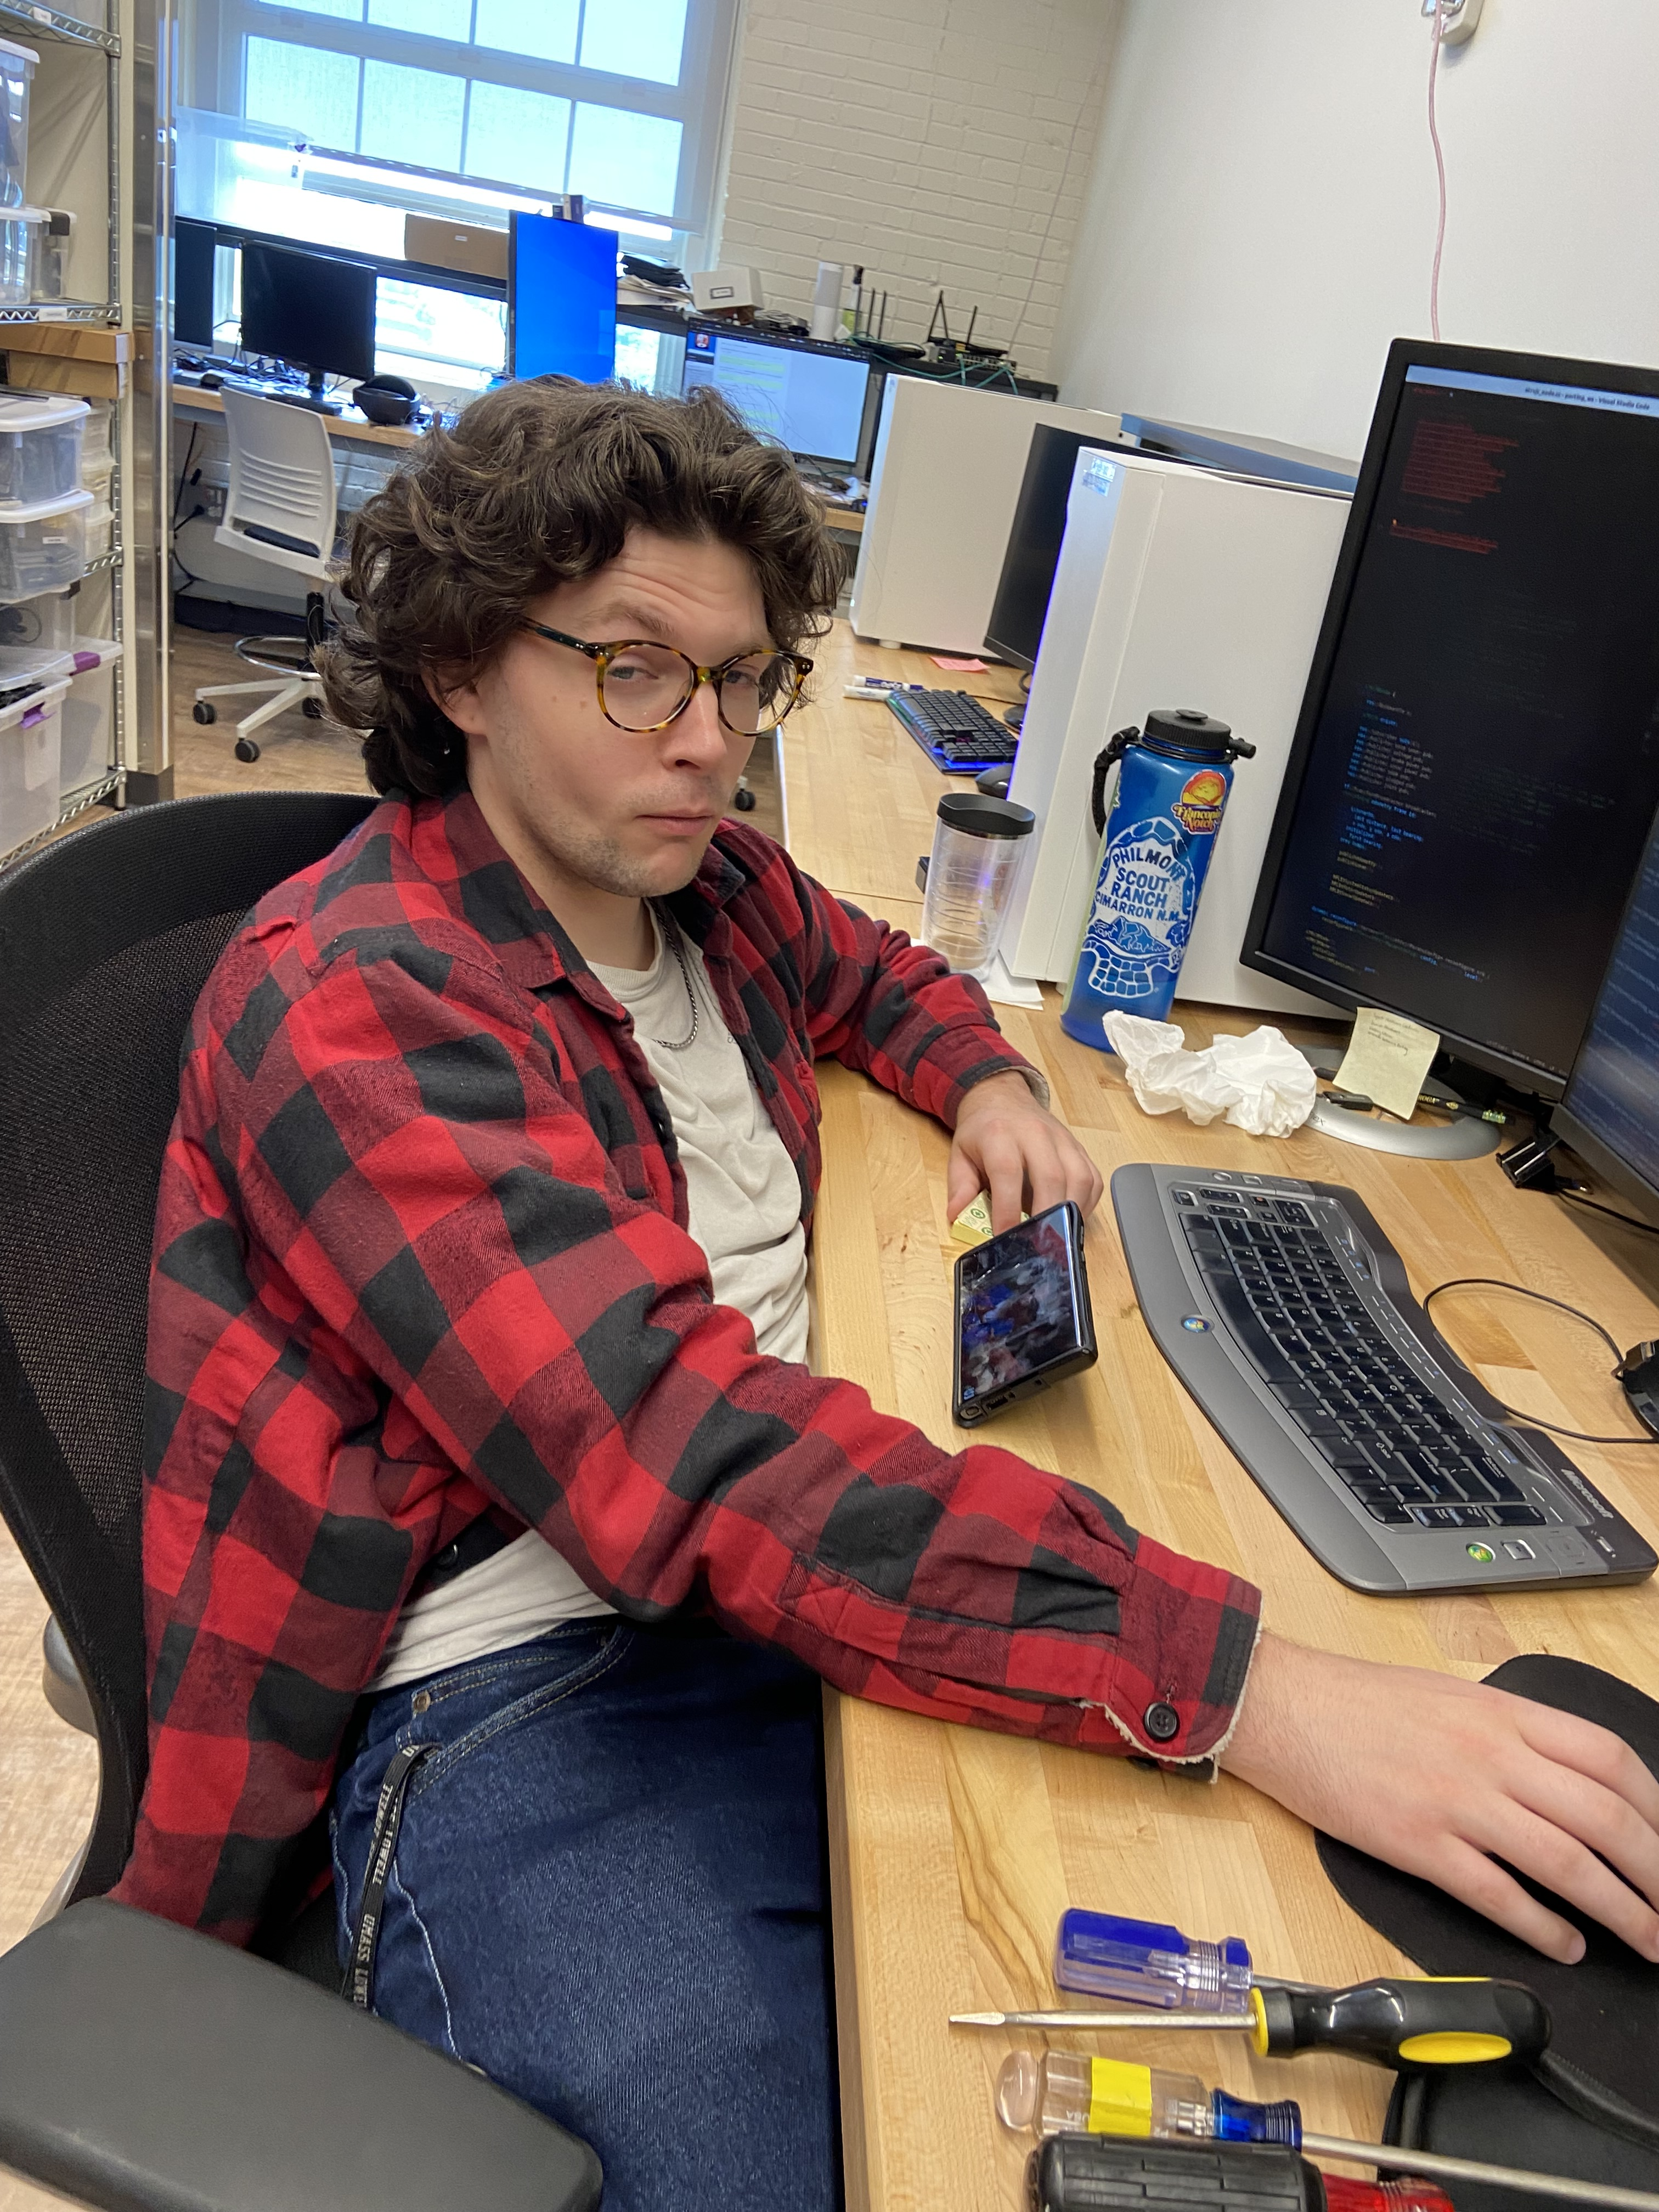Cube: (983, 2045, 1654, 2212), (939, 1986, 1551, 2076), (1049, 1898, 1441, 2026), (1018, 2114, 1467, 2212)
